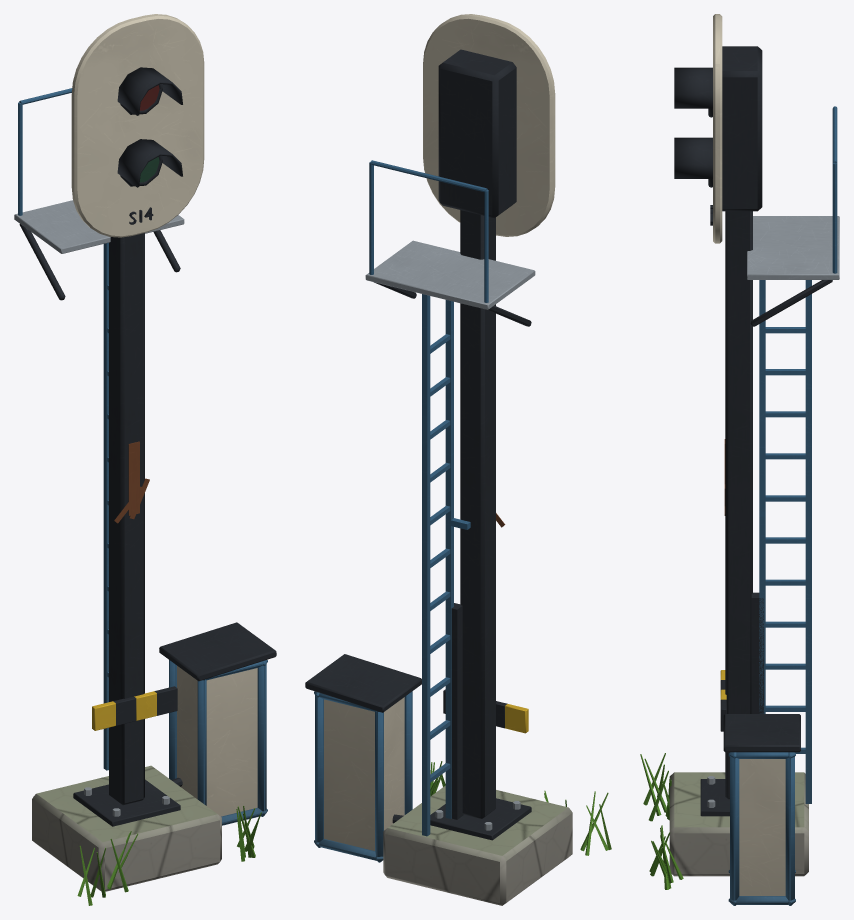
File: rail_signal.glb
The picture shows the model from 3 angles, left to right: view 1: azimuth 30°, elevation 25°; view 2: azimuth 150°, elevation 25°; view 3: azimuth 270°, elevation 25°; orthographic projection. The views are drawn at different scales.
Visible parts, largest first — view 1: rail_signal; view 2: rail_signal; view 3: rail_signal.
Boxes of the visible parts, x1,y1,x2,y2 form: rail_signal: (14,14,276,905); rail_signal: (305,14,611,905); rail_signal: (640,14,839,905).
Size of the model in its own units: 1.7 by 5.88 by 1.29.
Materials: 14 (14 with a texture image).
